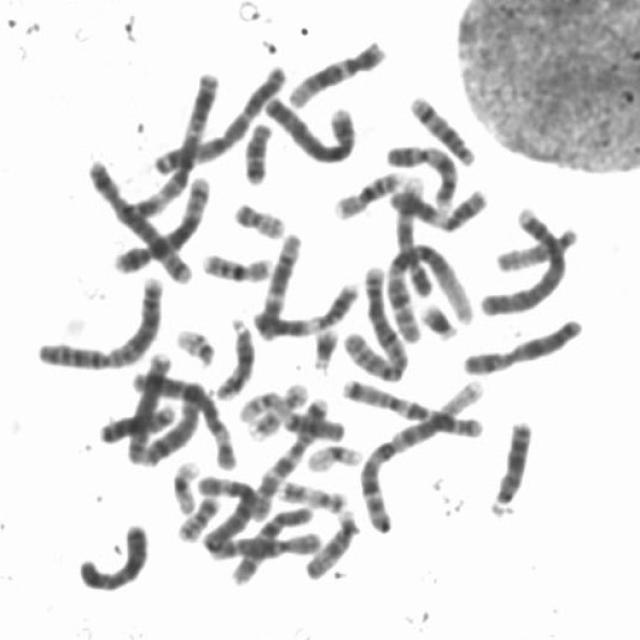A1: (355, 372, 488, 537), (380, 236, 480, 342)
A2: (29, 269, 164, 372), (338, 262, 412, 383)
A3: (150, 57, 292, 176), (122, 62, 226, 222)
B4: (478, 202, 571, 318), (260, 90, 360, 164)
B5: (82, 152, 197, 286), (109, 170, 214, 276)
C10: (225, 498, 318, 588), (198, 523, 324, 560)
C11: (248, 275, 364, 340), (384, 180, 490, 233)
C12: (283, 32, 390, 110), (250, 227, 304, 341)
C6: (126, 366, 239, 472), (196, 468, 263, 560)
C7: (244, 391, 330, 522), (337, 371, 489, 440)
C8: (133, 369, 208, 468), (122, 346, 176, 466)
C9: (385, 177, 436, 300), (378, 137, 461, 209)
D13: (484, 412, 536, 517), (94, 398, 179, 446)
D14: (405, 87, 478, 167), (210, 311, 256, 401)
D15: (489, 219, 581, 274), (300, 504, 361, 582)
E16: (328, 163, 406, 221), (197, 245, 275, 284)
E17: (244, 376, 310, 441), (274, 473, 349, 514)
E18: (239, 116, 275, 185), (279, 407, 345, 442)
F19: (302, 437, 365, 474), (166, 454, 202, 516)
F20: (228, 194, 289, 240), (172, 490, 222, 543)
G21: (415, 296, 460, 342), (306, 322, 341, 372)
G22: (170, 322, 219, 368), (234, 385, 284, 423)
X: (456, 312, 587, 378), (73, 517, 152, 594)
